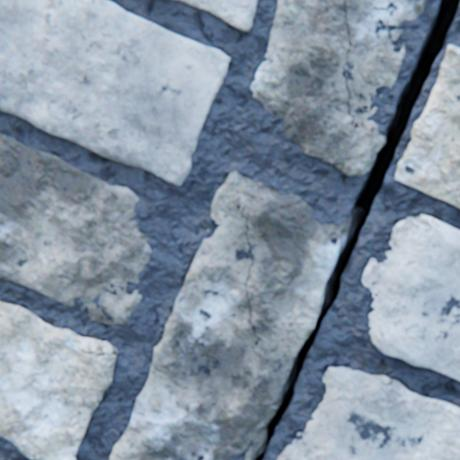brick: (111, 172, 348, 459), (0, 0, 230, 186), (251, 0, 426, 177), (0, 134, 152, 324), (0, 301, 118, 459), (277, 367, 459, 459), (362, 215, 459, 380), (394, 46, 459, 208), (168, 0, 258, 33)
crack: (247, 0, 459, 459), (342, 63, 350, 115), (245, 270, 250, 287), (346, 42, 350, 61), (250, 254, 253, 267), (99, 352, 110, 355), (246, 224, 248, 237), (353, 124, 358, 129)
